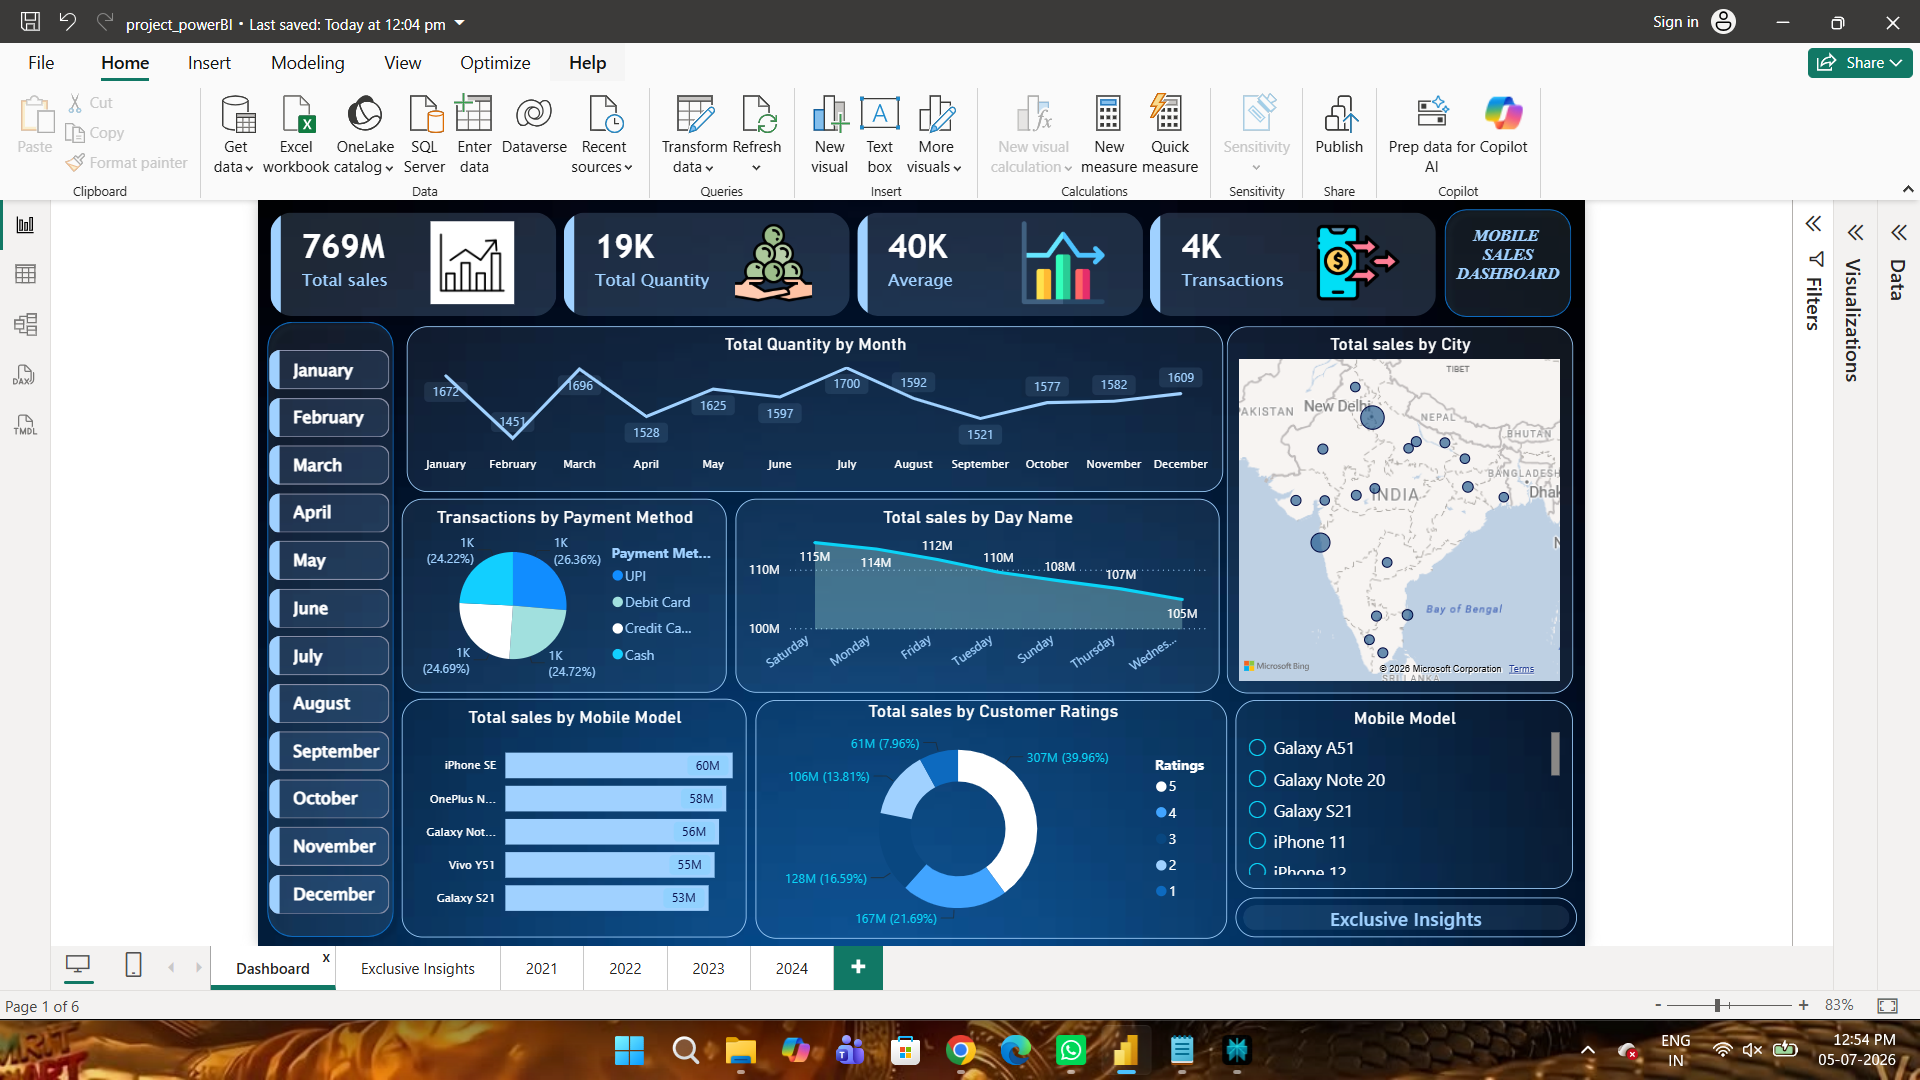

This screenshot's page, from the dashboard's own definition file:
{"tool":"powerbi","page":{"name":"Dashboard","canvas":[1280,720],"ordinal":0},"visuals":[{"type":"shape","box":[1136.5,0,139.9,121.9],"z":0},{"type":"shape","box":[0,108.6,139.9,611.7],"z":1000},{"type":"advancedSlicerVisual","fields":{"Values":["Sales_data.Date.Variation.Date Hierarchy.Month"]},"box":[6,139.9,126.7,556.2],"z":2000},{"type":"cardVisual","fields":{"Data":["Sales_data.Total sales","Sales_data.Total Quantity","Sales_data.Average","Sales_data.Transactions"]},"box":[0,0,1150.9,139.9],"z":3000},{"type":"image","box":[457.2,20.5,80.8,79.6],"z":4000},{"type":"image","box":[737.1,20.5,79.6,79.6],"z":5000},{"type":"image","box":[1021.9,20.5,79.6,79.6],"z":6000},{"type":"map","fields":{"Size":["Sales_data.Total sales"],"Category":["Sales_data.City"]},"box":[935,121.9,334.2,354.7],"z":7000},{"type":"lineChart","fields":{"Category":["Sales_data.Date.Variation.Date Hierarchy.Month","Sales_data.Date.Variation.Date Hierarchy.Day"],"Y":["Sales_data.Total Quantity"]},"box":[143.6,122.1,787.9,160],"z":8000},{"type":"clusteredBarChart","fields":{"Category":["Sales_data.Mobile Model"],"Y":["Sales_data.Total sales"]},"box":[138.7,481.4,333,230.4],"z":9000},{"type":"pieChart","fields":{"Y":["Sales_data.Transactions"],"Category":["Sales_data.Payment Method"]},"box":[138.7,288.3,313.7,187],"z":10000},{"type":"textbox","box":[1136.5,20.5,139.9,115.8],"z":11000},{"type":"areaChart","fields":{"Y":["Sales_data.Total sales"],"Category":["Sales_data.Day Name"]},"box":[460.9,288.3,466.9,187],"z":12000},{"type":"listSlicer","fields":{"Values":["Sales_data.Mobile Model"]},"box":[943.4,482.6,325.7,182.2],"z":14000},{"type":"actionButton","box":[943.4,673.2,329.4,38.6],"z":15000},{"type":"donutChart","fields":{"Category":["Sales_data.Customer Ratings"],"Y":["Sales_data.Total sales"]},"box":[480.2,482.6,454.8,230.4],"z":16000},{"type":"image","box":[166.5,20.5,80.8,79.6],"z":17000}]}

Visuals, with their boxes on the page's 1280x720 design canvas (x1, y1, x2, y2). These are canvas units, not pixel positions in the 1920x1080 screenshot, which may show the page scaled, cropped or inside an application window:
shape: [1136, 0, 1276, 122]
shape: [0, 109, 140, 720]
advancedSlicerVisual - Sales_data.Date.Variation.Date Hierarchy.Month: [6, 140, 133, 696]
cardVisual - Sales_data.Total sales x Sales_data.Total Quantity: [0, 0, 1151, 140]
image: [457, 20, 538, 100]
image: [737, 20, 817, 100]
image: [1022, 20, 1102, 100]
map - Sales_data.Total sales x Sales_data.City: [935, 122, 1269, 477]
lineChart - Sales_data.Date.Variation.Date Hierarchy.Month x Sales_data.Date.Variation.Date Hierarchy.Day: [144, 122, 932, 282]
clusteredBarChart - Sales_data.Mobile Model x Sales_data.Total sales: [139, 481, 472, 712]
pieChart - Sales_data.Transactions x Sales_data.Payment Method: [139, 288, 452, 475]
textbox: [1136, 20, 1276, 136]
areaChart - Sales_data.Total sales x Sales_data.Day Name: [461, 288, 928, 475]
listSlicer - Sales_data.Mobile Model: [943, 483, 1269, 665]
actionButton: [943, 673, 1273, 712]
donutChart - Sales_data.Customer Ratings x Sales_data.Total sales: [480, 483, 935, 713]
image: [166, 20, 247, 100]
